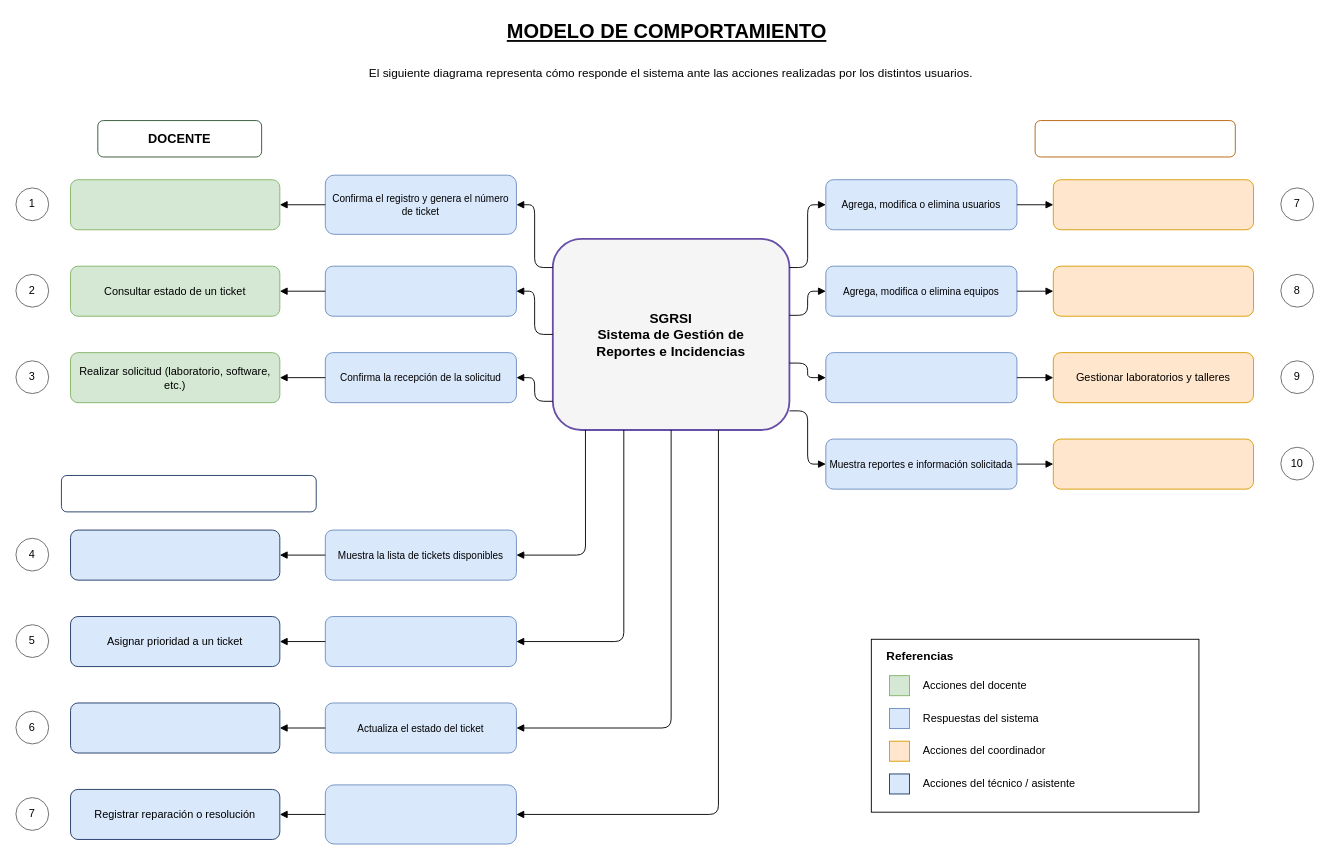
Some shapes in this 1330 by 860 pixel diagram are drawn without their labels. The shapes that lost their labels are listed below. From the top down, each one's centre as x and y in pixels, then its label:
At point 1134,138: "COORDINADOR".
At point 175,204: "Registrar ticket".
At point 1153,204: "Gestionar usuarios".
At point 420,290: "Muestra el estado actual del ticket".
At point 1153,290: "Gestionar equipos".
At point 921,377: "Agrega, modifica o elimina espacios".
At point 1153,463: "Consultar reportes e información".
At point 188,493: "TÉCNICO / ASISTENTE".
At point 175,554: "Consultar tickets asignados o pendientes".
At point 420,641: "Guarda la prioridad asignada".
At point 175,727: "Actualizar estado del ticket".
At point 420,814: "Guarda la reparación, fecha de finalización y datos relevantes".
